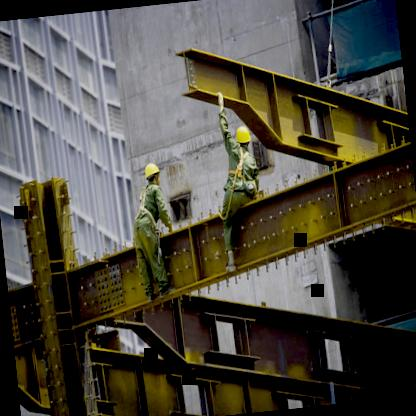helmet: (143, 161, 163, 187), (235, 126, 253, 150)
